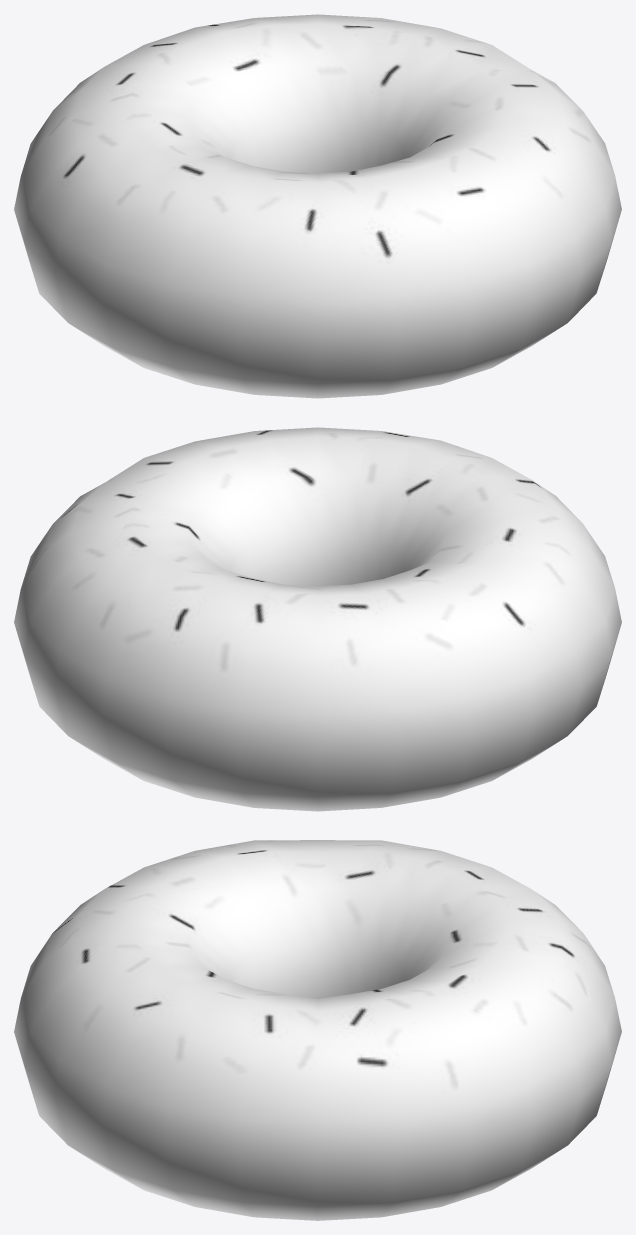
File: donut.glb
The picture shows the model from 3 angles, top to bottom: view 1: azimuth 30°, elevation 25°; view 2: azimuth 150°, elevation 25°; view 3: azimuth 270°, elevation 25°; orthographic projection.
Bounding box in the file's own units: 1 × 0.3585 × 1.
1 material, 1 textured.
